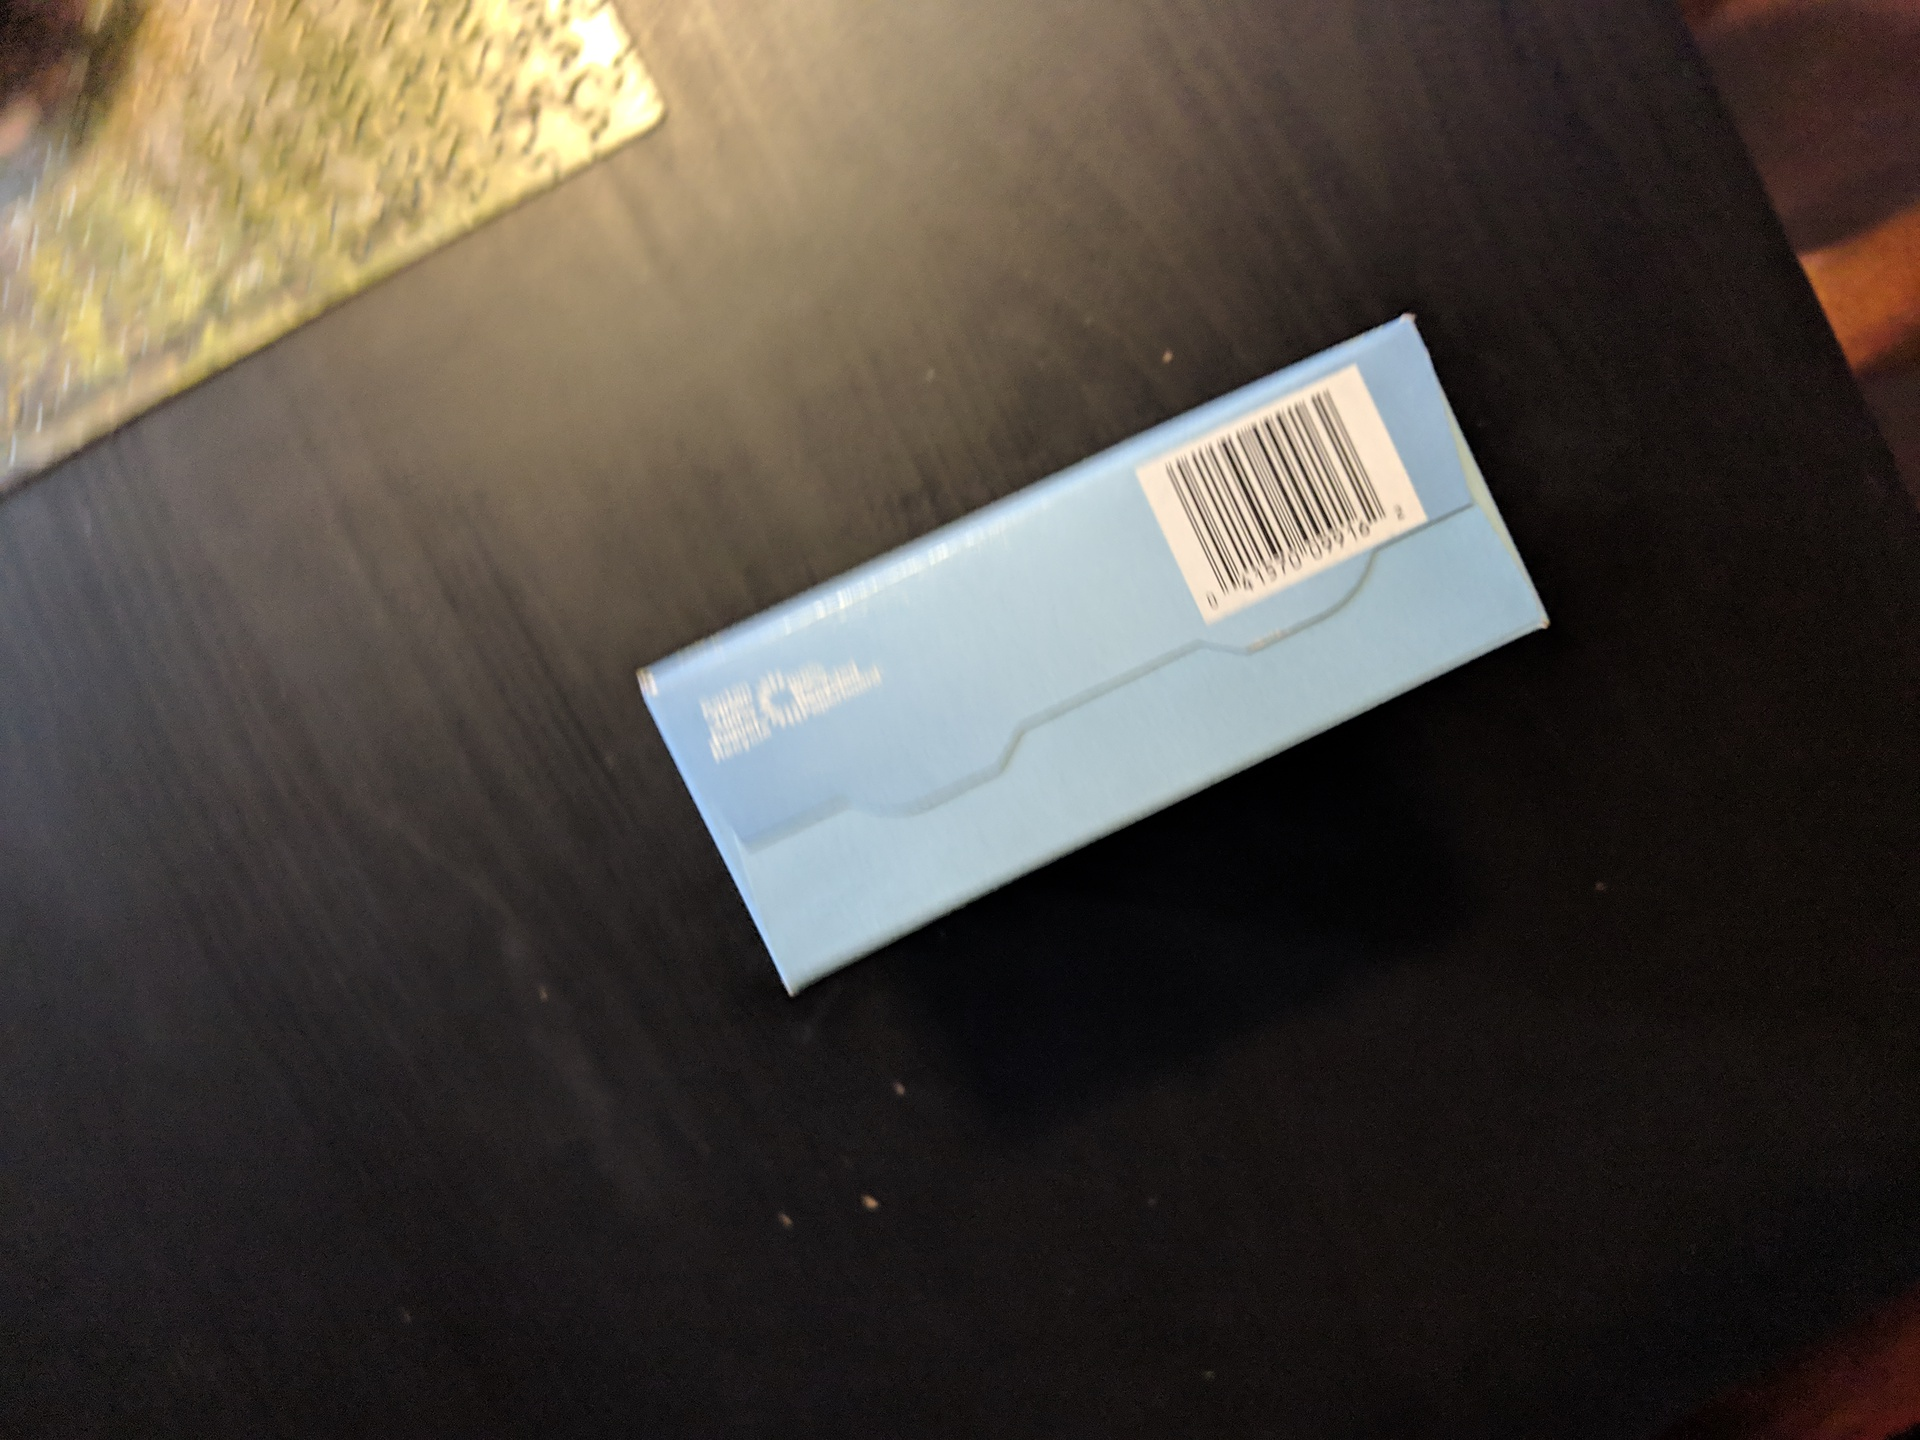blue_diamond_nut_thins_almond_seasalt: (711, 398, 1500, 917)
